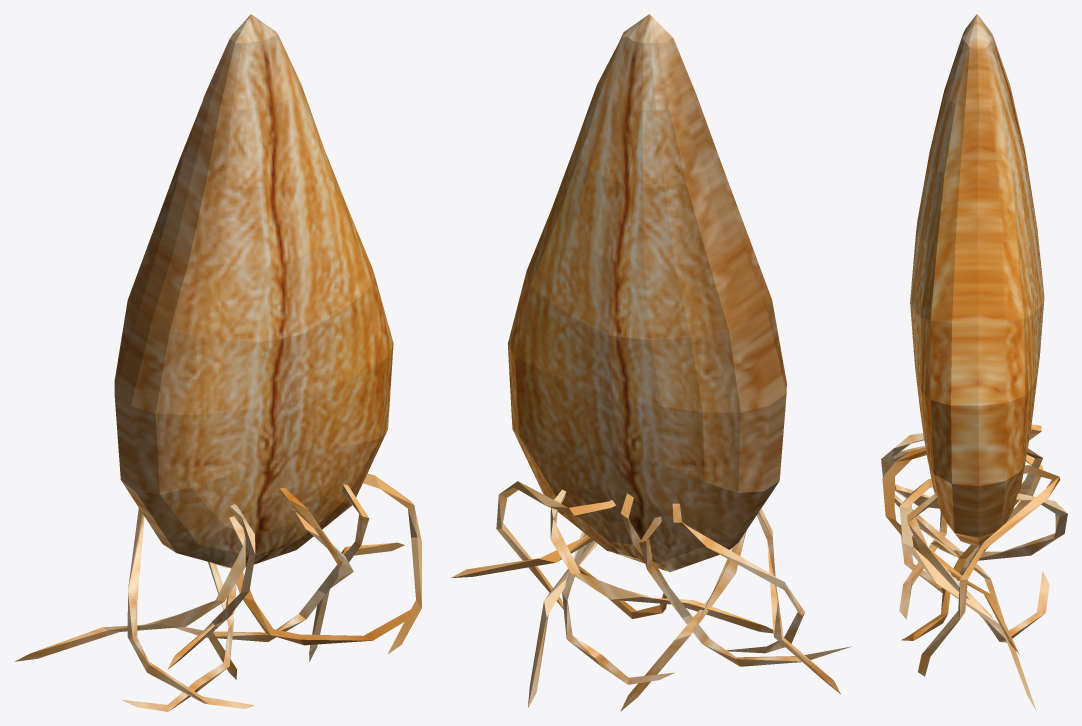
File: WheatSeed.fbx
3 renders of one model, left to right at view 1: azimuth 30°, elevation 25°; view 2: azimuth 150°, elevation 25°; view 3: azimuth 270°, elevation 25°, orthographic. The views are drawn at different scales.
Parts seen in each view (by area): view 1: WheatSeed; view 2: WheatSeed; view 3: WheatSeed.
Boxes of the visible parts, left/top/right/bottom form: WheatSeed: left=15, top=14, right=421, bottom=711; WheatSeed: left=450, top=14, right=850, bottom=711; WheatSeed: left=881, top=14, right=1067, bottom=711.
Size of the model in its own units: 0.3171 by 0.5373 by 0.1386.
